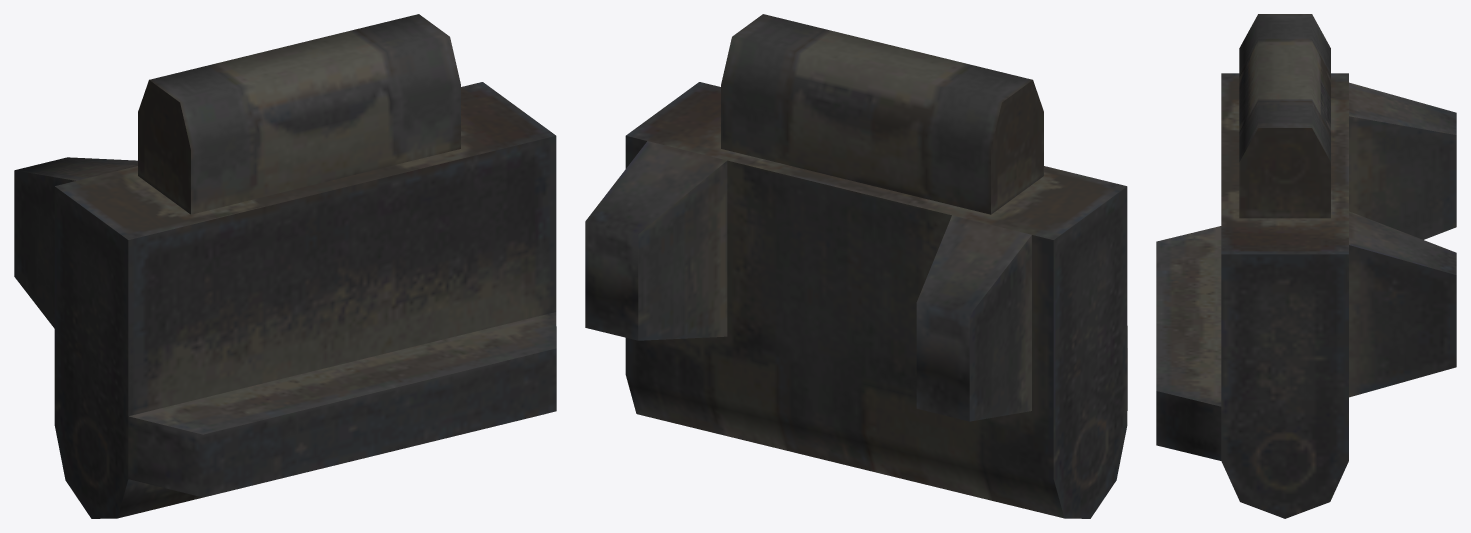
3 renders of one model, left to right at view 1: azimuth 30°, elevation 25°; view 2: azimuth 150°, elevation 25°; view 3: azimuth 270°, elevation 25°, orthographic. The views are drawn at different scales.
Visible parts, largest first — view 1: set_0_group_0; view 2: set_0_group_0; view 3: set_0_group_0.
Part boxes in pixels (<box>): set_0_group_0: <box>14,14,556,518</box>; set_0_group_0: <box>585,14,1127,518</box>; set_0_group_0: <box>1156,14,1456,518</box>.
Bounding box in the file's own units: 0.2348 × 0.2149 × 0.1647.
1 material, 1 textured.
